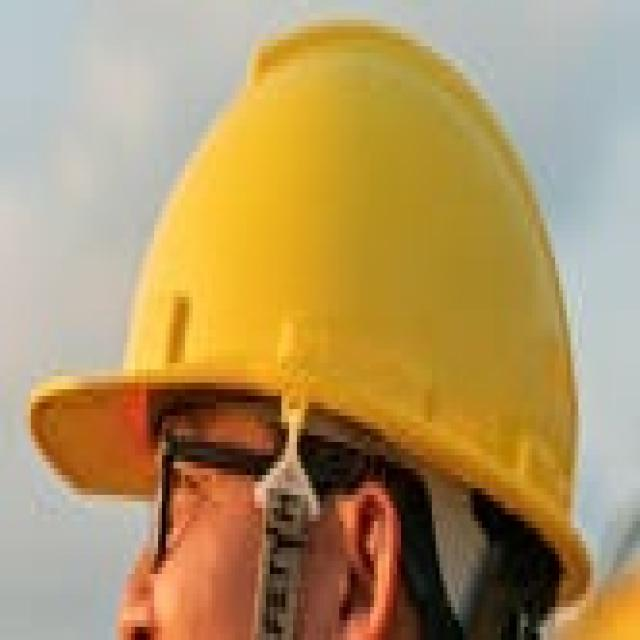helmet_yellow: (4, 3, 636, 637)
